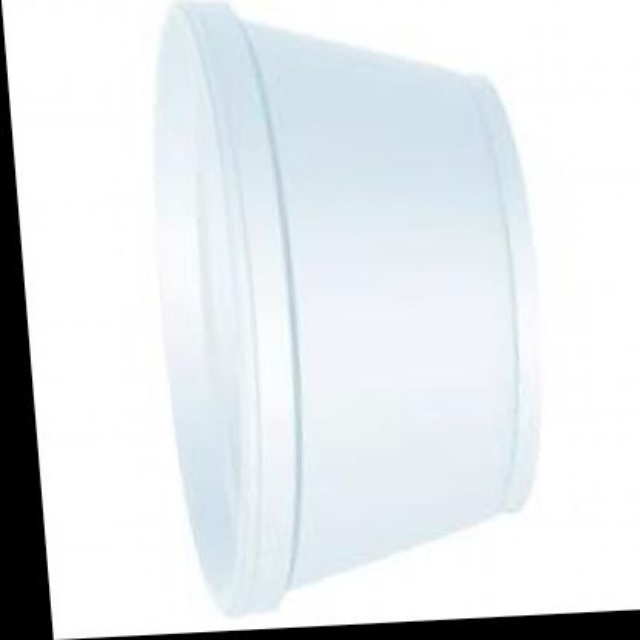trash: (155, 3, 535, 612)
